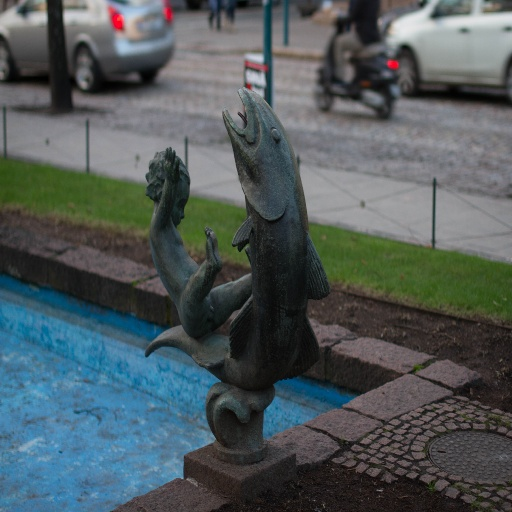hand: (162, 144, 179, 184)
